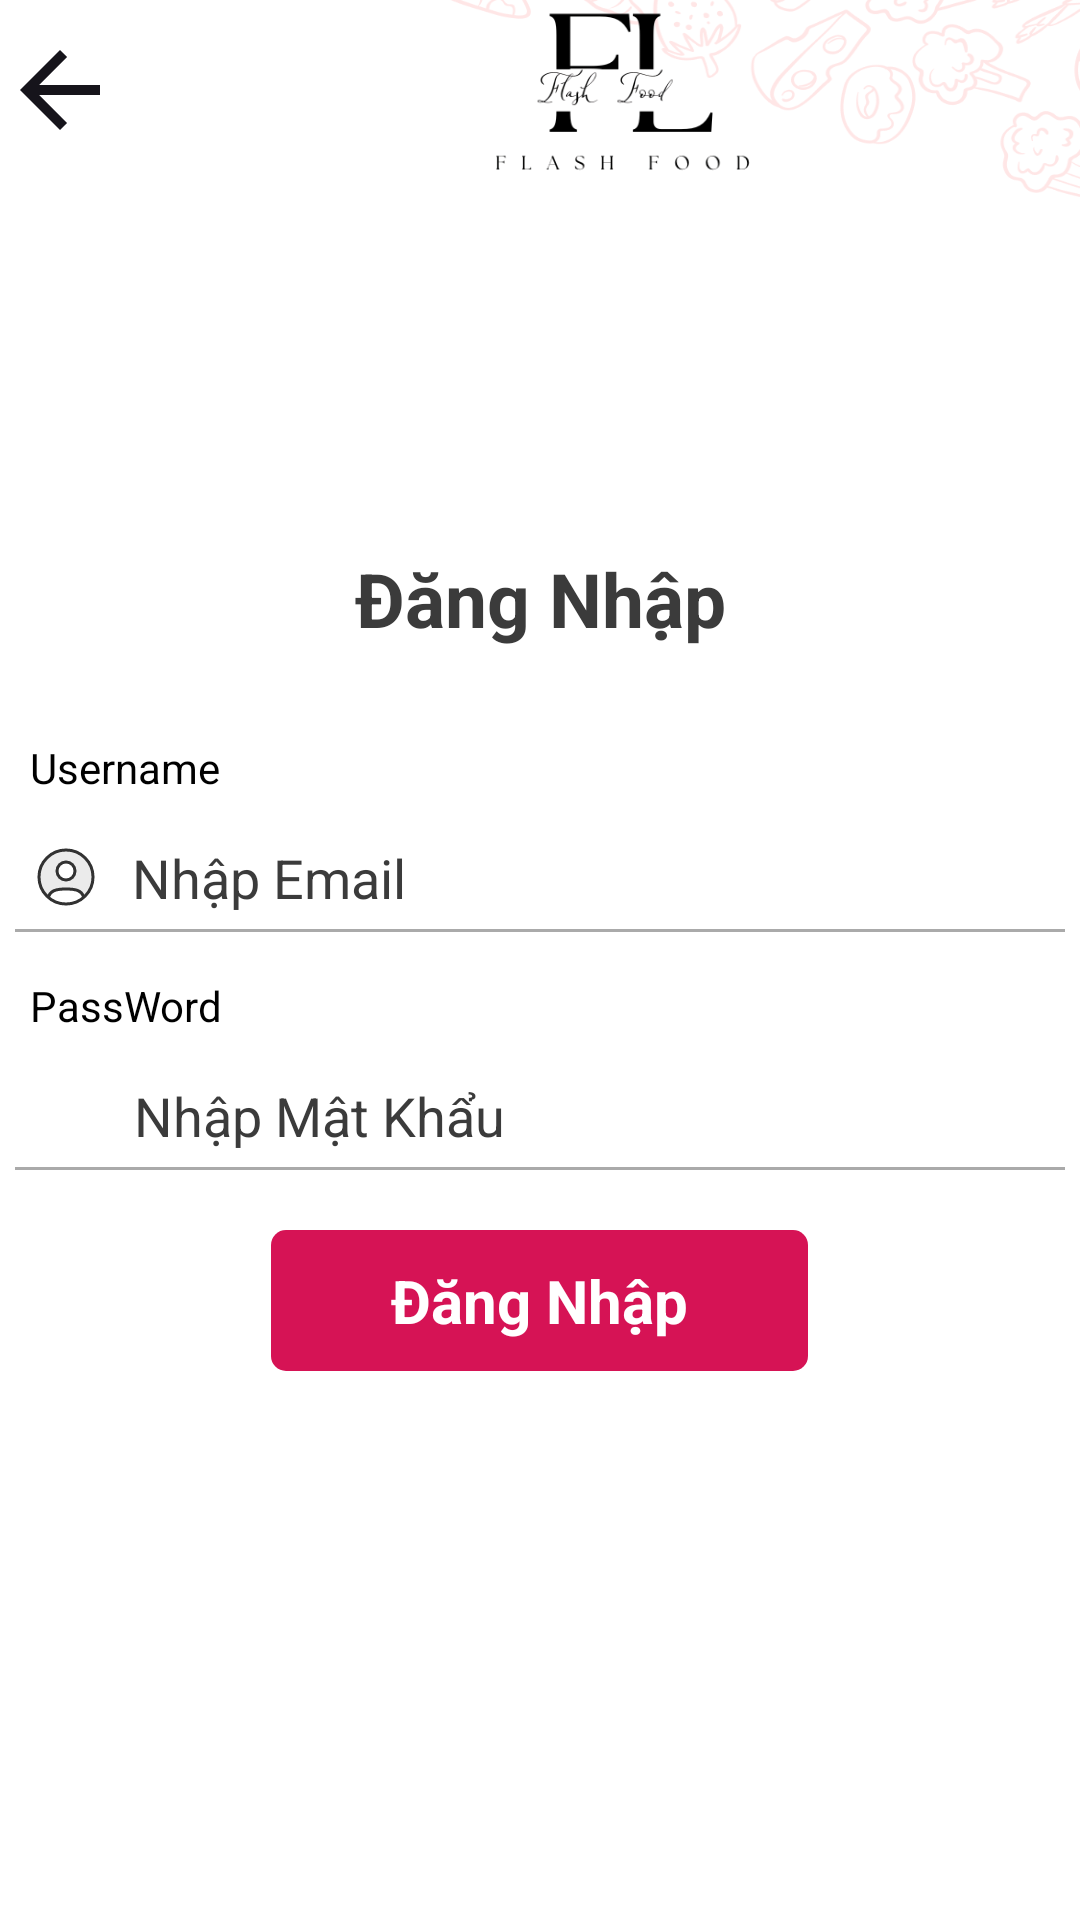

Named icons in this screenshot (1080×1920) and their centers, [x,y]:
back: [60,90]
